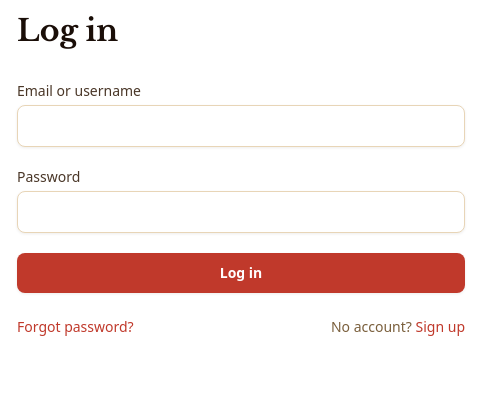
Test case: LoginPage › displays an error message on failed login
Type "test@example.com" into the field labelled "Email or username" at (241, 126), box [17,105,465,147]
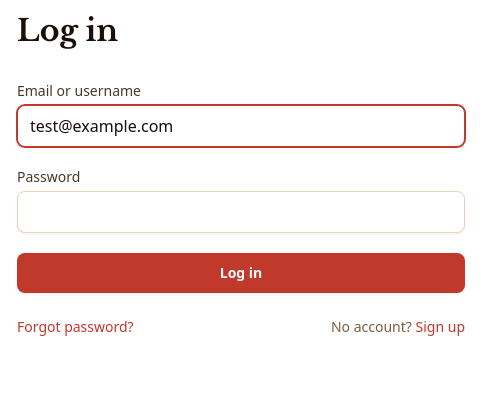
Type "wrong" into the password field labelled "Password" at (241, 212), box [17,191,465,233]
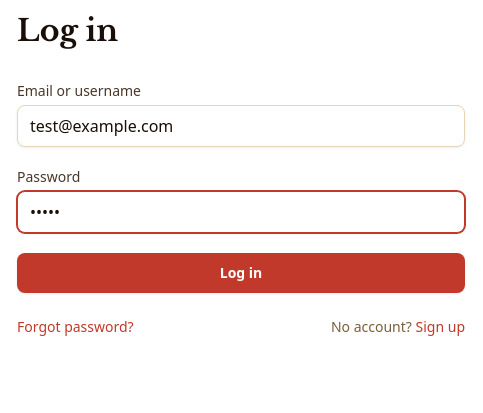
Click the button "Log in" at (241, 273), box [17,253,465,293]
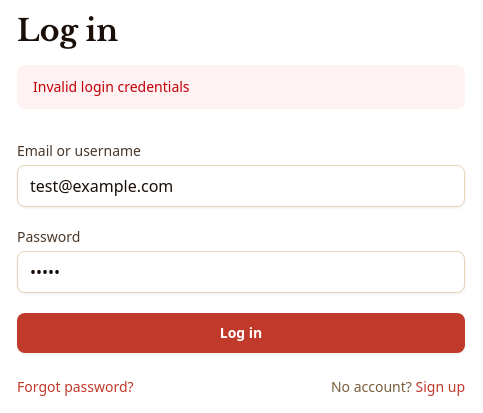
Expected: the message reads "Invalid login credentials", [33,77,190,96]
